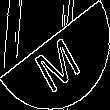M_NW: (27, 21, 83, 89)
